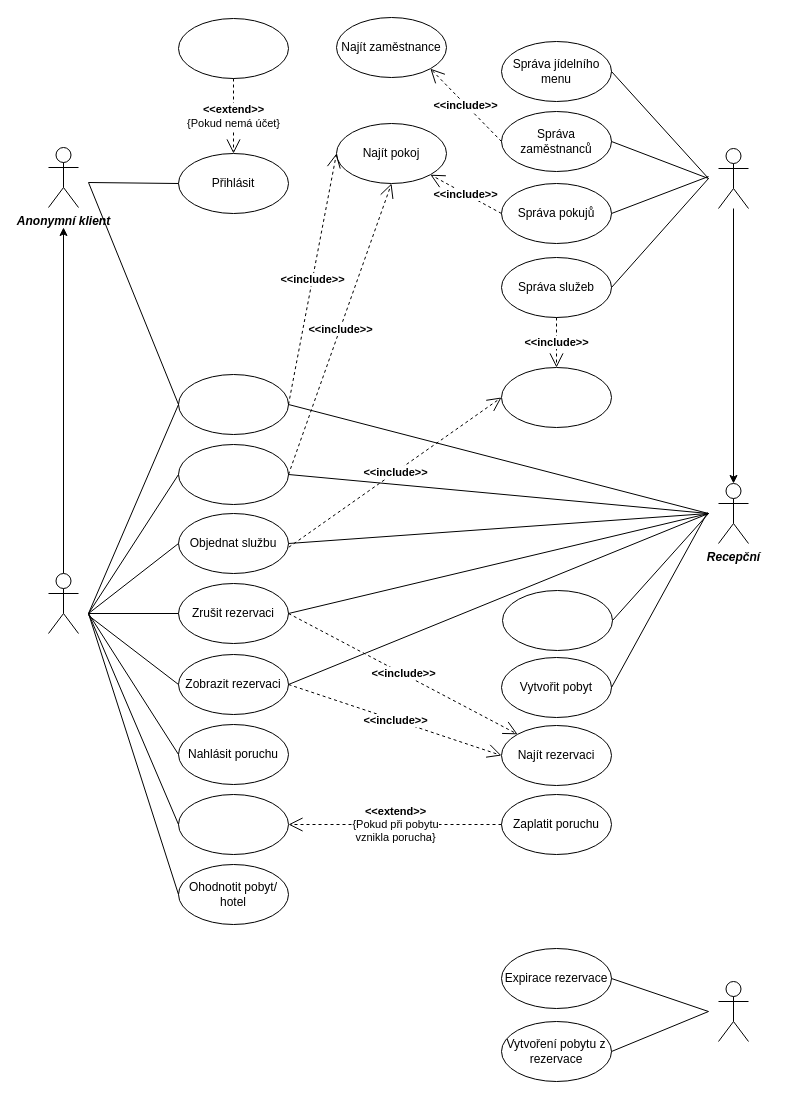
Some shapes in this 794 by 1099 pixel diagram are drawn without their labels. The shapes that lost their labels are listed below. From the top down, each one's centre as x and y in pixels, then its label:
[233,48]: Registrovat
[733,178]: Správce hotelu
[233,404]: Zobrazit pokoj
[556,397]: Najít službu
[233,474]: Rezervovat pokoj
[63,603]: Klient
[557,620]: Přijmout platbu
[233,824]: Provést platbu
[733,1011]: Čas
